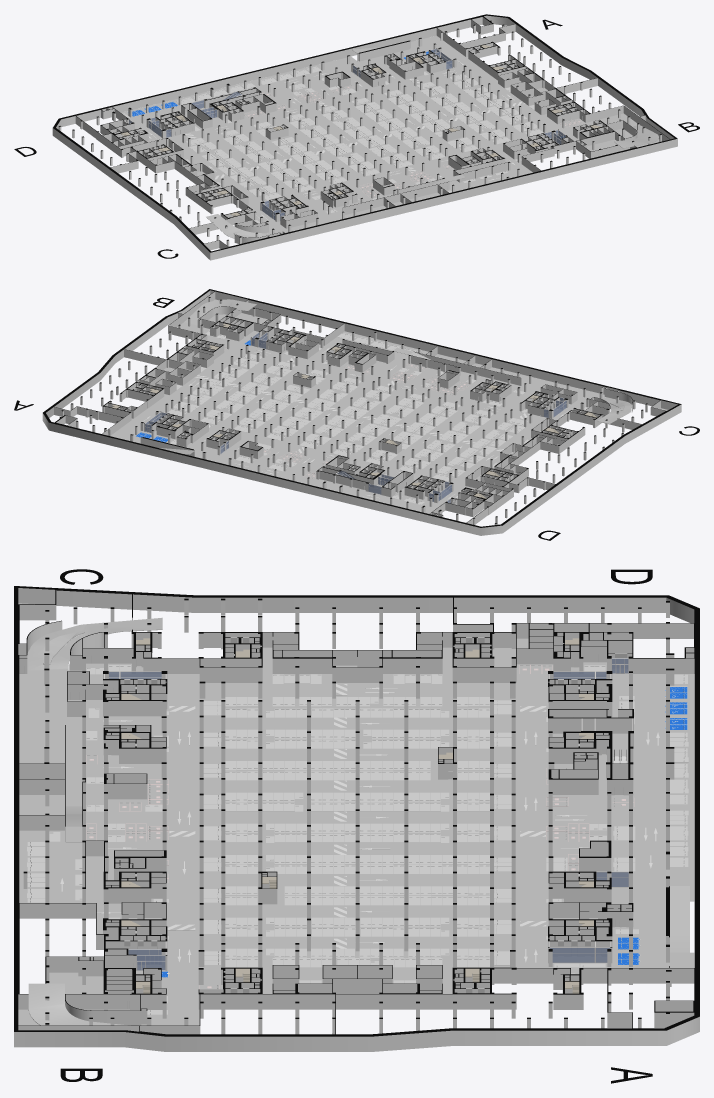
3 views of the same model, one above another, from view 1: azimuth 30°, elevation 25°; view 2: azimuth 150°, elevation 25°; view 3: azimuth 270°, elevation 25° (orthographic). The views are drawn at different scales.
Parts seen in each view (by area): view 1: B4F_Floor_01; view 2: B4F_Floor_01; view 3: B4F_Floor_01.
Part boxes in pixels (bbox=[...]): B4F_Floor_01: bbox=[14, 14, 699, 260]; B4F_Floor_01: bbox=[14, 289, 699, 540]; B4F_Floor_01: bbox=[14, 569, 699, 1083].
Size of the model in its own units: 280 by 5.72 by 158.
